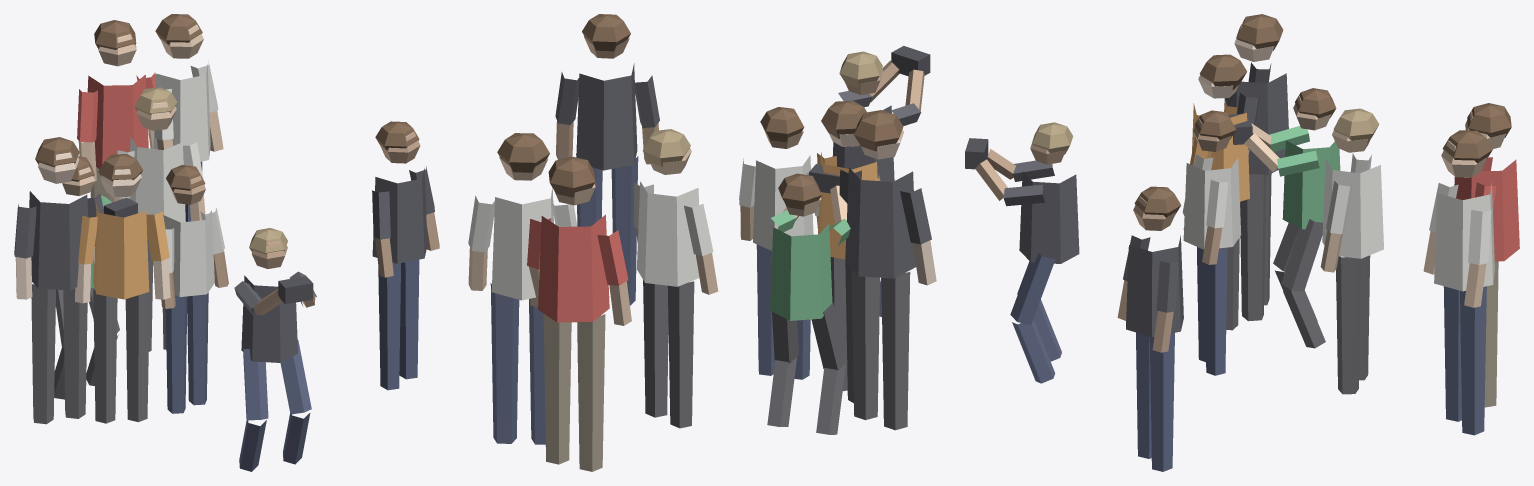
The model's file is crowd_group_small_a.glb.
3 renders of one model, left to right at view 1: azimuth 30°, elevation 25°; view 2: azimuth 150°, elevation 25°; view 3: azimuth 270°, elevation 25°, orthographic. The views are drawn at different scales.
Visible parts, largest first — view 1: crowd_group_small_a; view 2: crowd_group_small_a; view 3: crowd_group_small_a.
Part boxes in pixels (<box>): crowd_group_small_a: <box>14,14,439,471</box>; crowd_group_small_a: <box>468,14,936,471</box>; crowd_group_small_a: <box>965,14,1519,471</box>.
Size of the model in its own units: 2.77 by 1.94 by 3.29.
